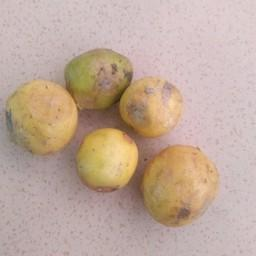Bad_lime: (142, 144, 222, 229), (1, 77, 78, 156), (63, 41, 130, 118), (120, 75, 187, 138), (77, 128, 139, 194)
